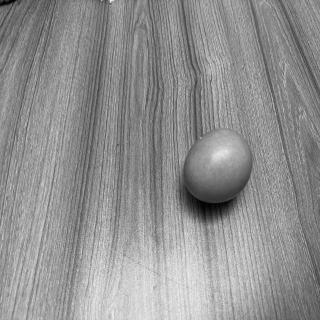Telur: (179, 123, 257, 207)
